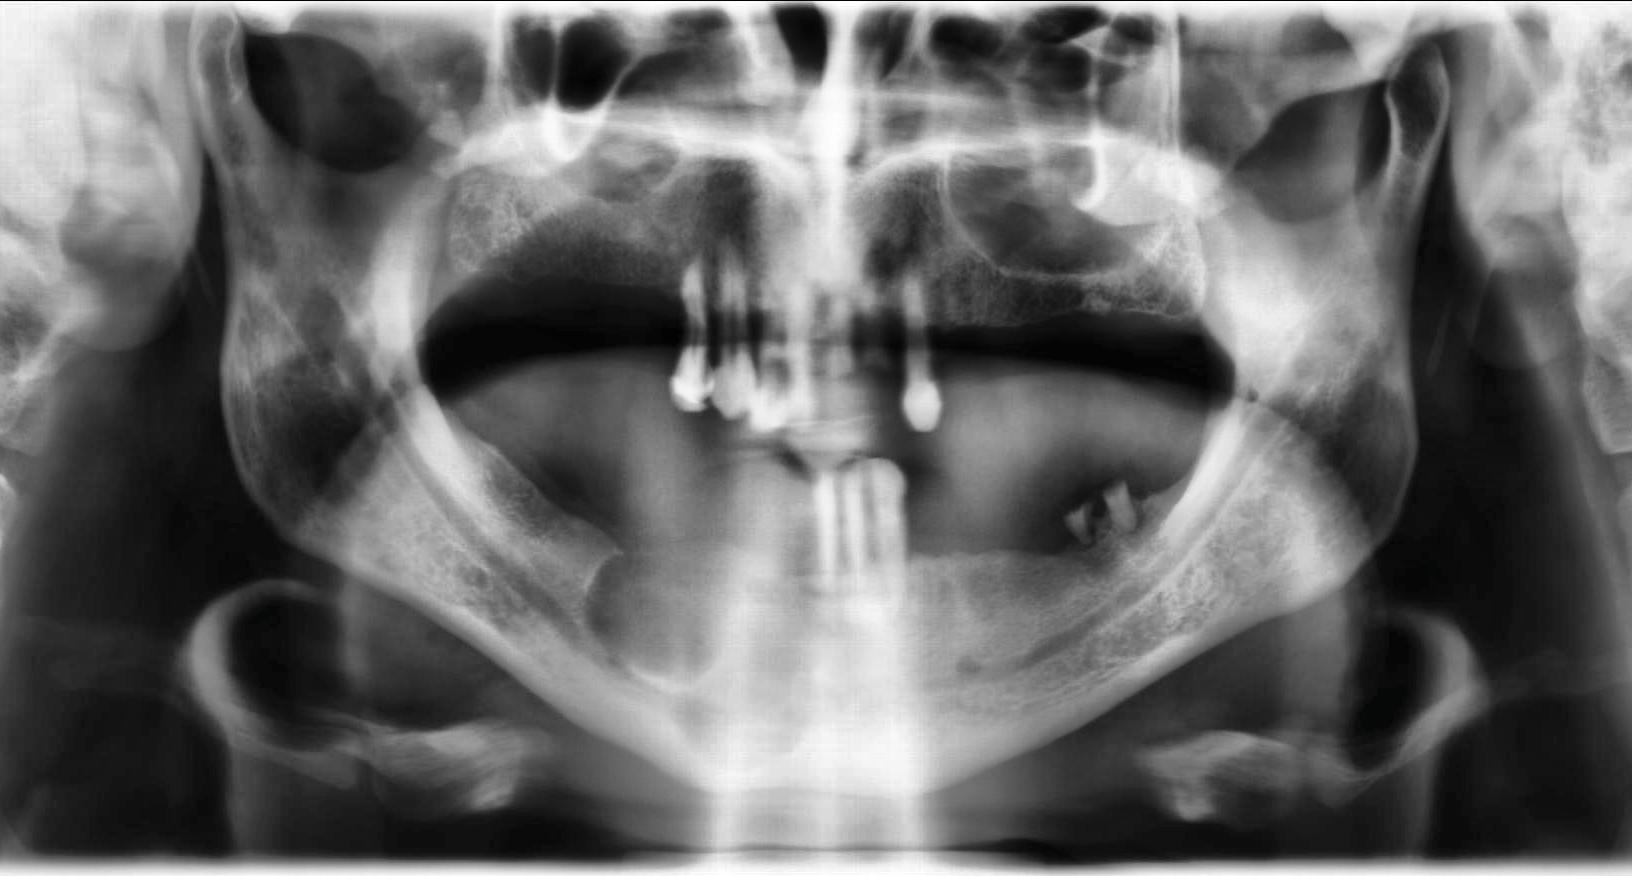keratokist: (582, 550, 724, 691)
